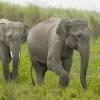elephant: (0, 18, 89, 87)
